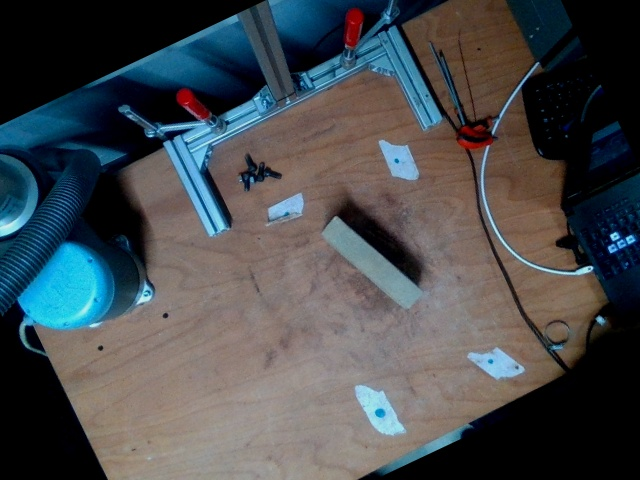brick-side: (322, 219, 421, 307)
